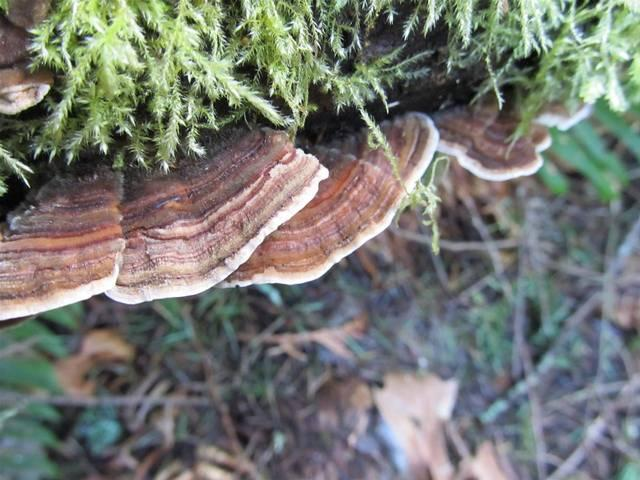poisonous_mushroom: (0, 109, 440, 323)
